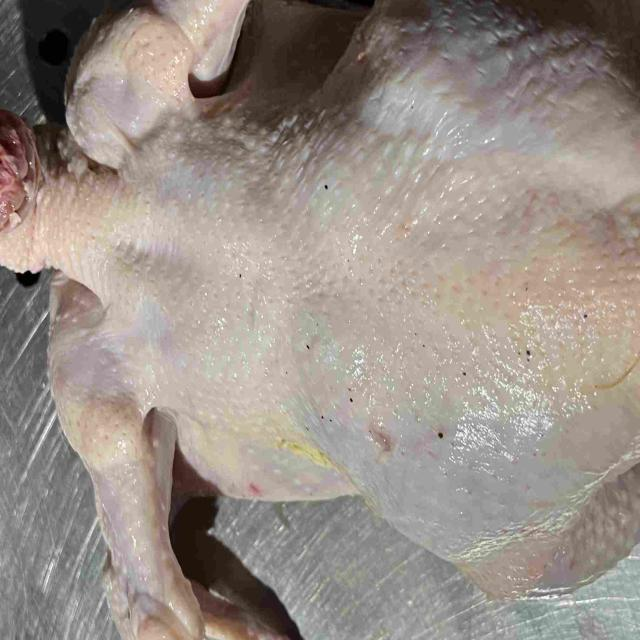back: (126, 108, 640, 509)
leg: (359, 0, 640, 192), (403, 441, 640, 599)
neck: (0, 108, 130, 299)
wing: (61, 359, 300, 640), (57, 0, 270, 178)
